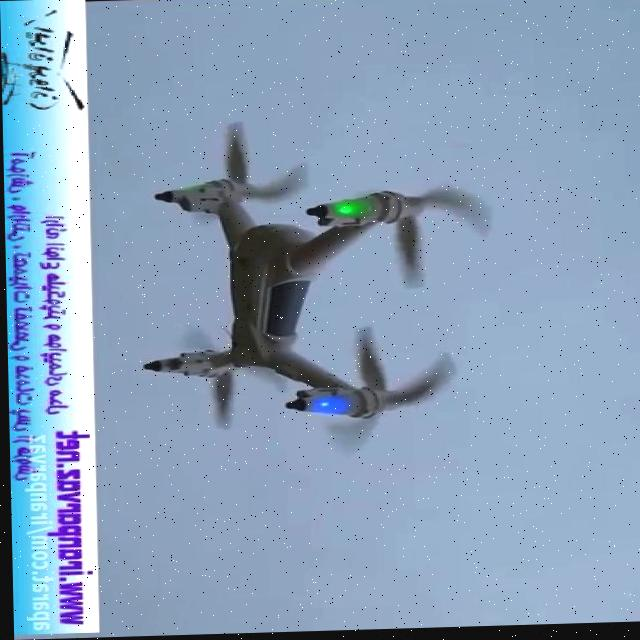drone: (128, 113, 502, 469)
